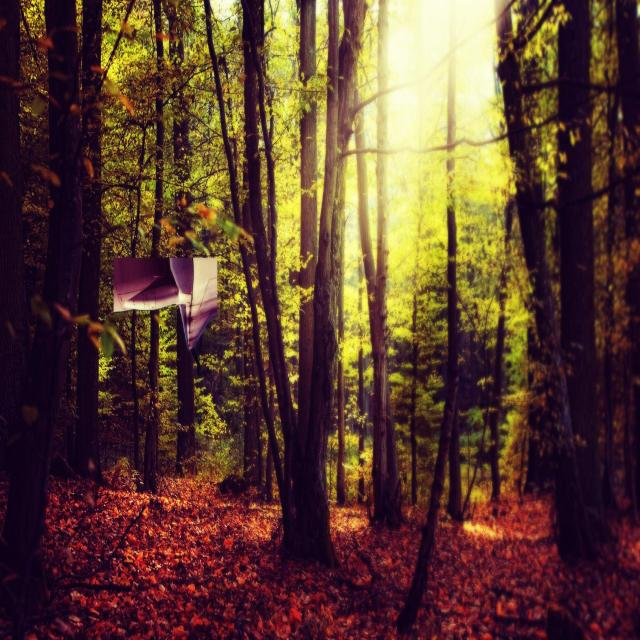airplane: (113, 255, 218, 351)
